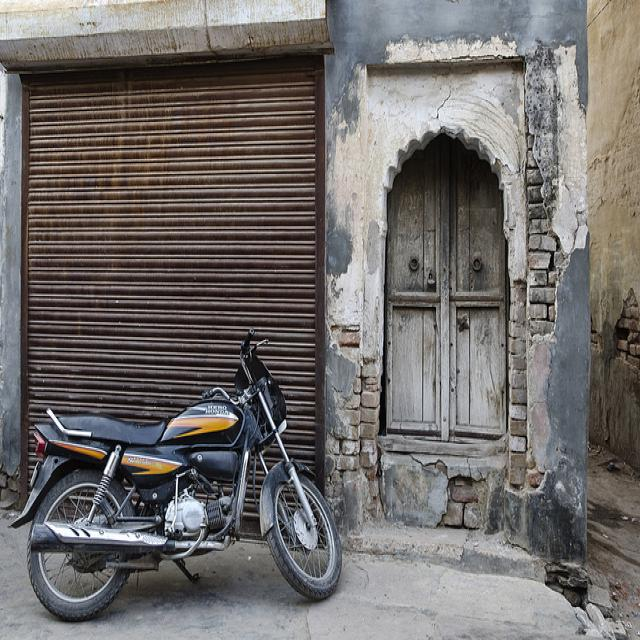motor: (5, 325, 344, 621)
